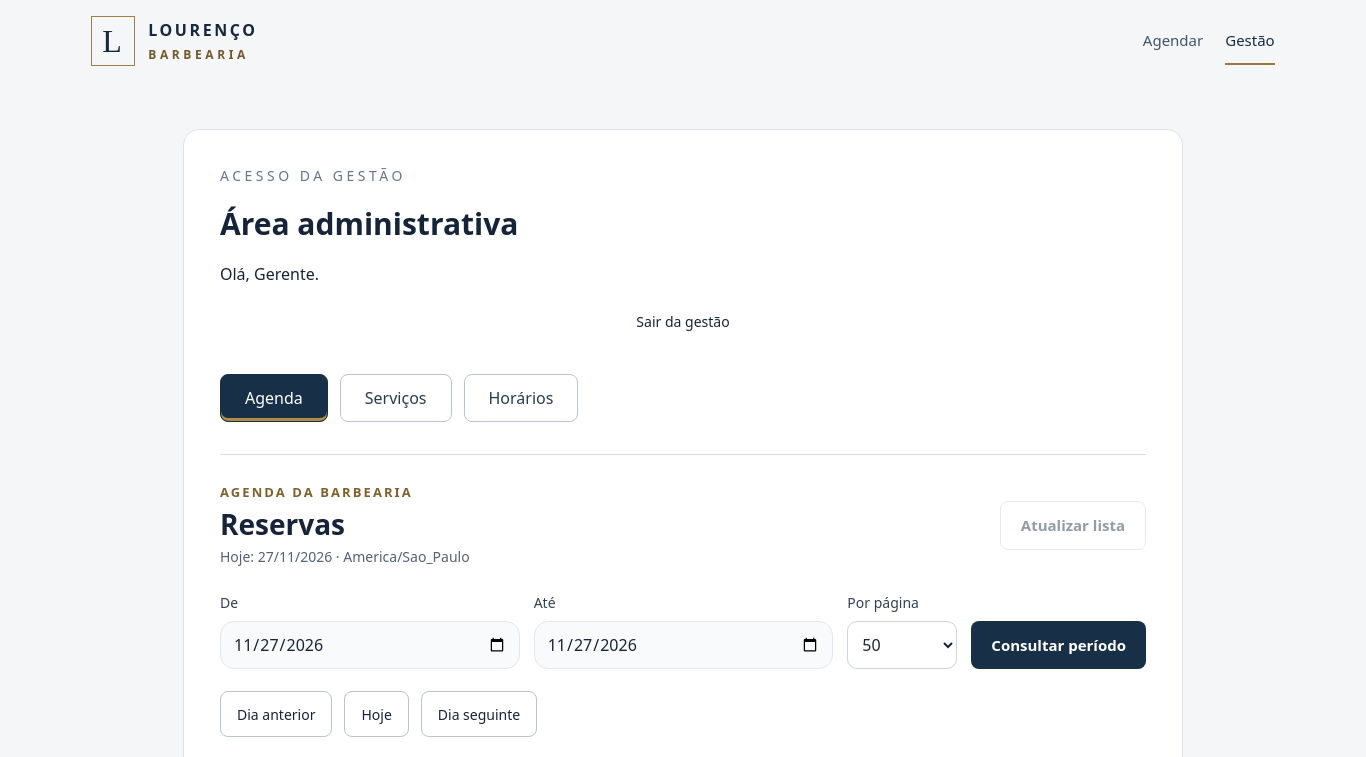
Test case: ignores stale filter responses even when transport ignores AbortSignal
The image size is (1366, 757).
Expected: the heading "Reservas" is shown, [220,504,345,542]
Click the button "Dia seguinte" at [479, 714], box [421,691,537,737]
(page scrolled)
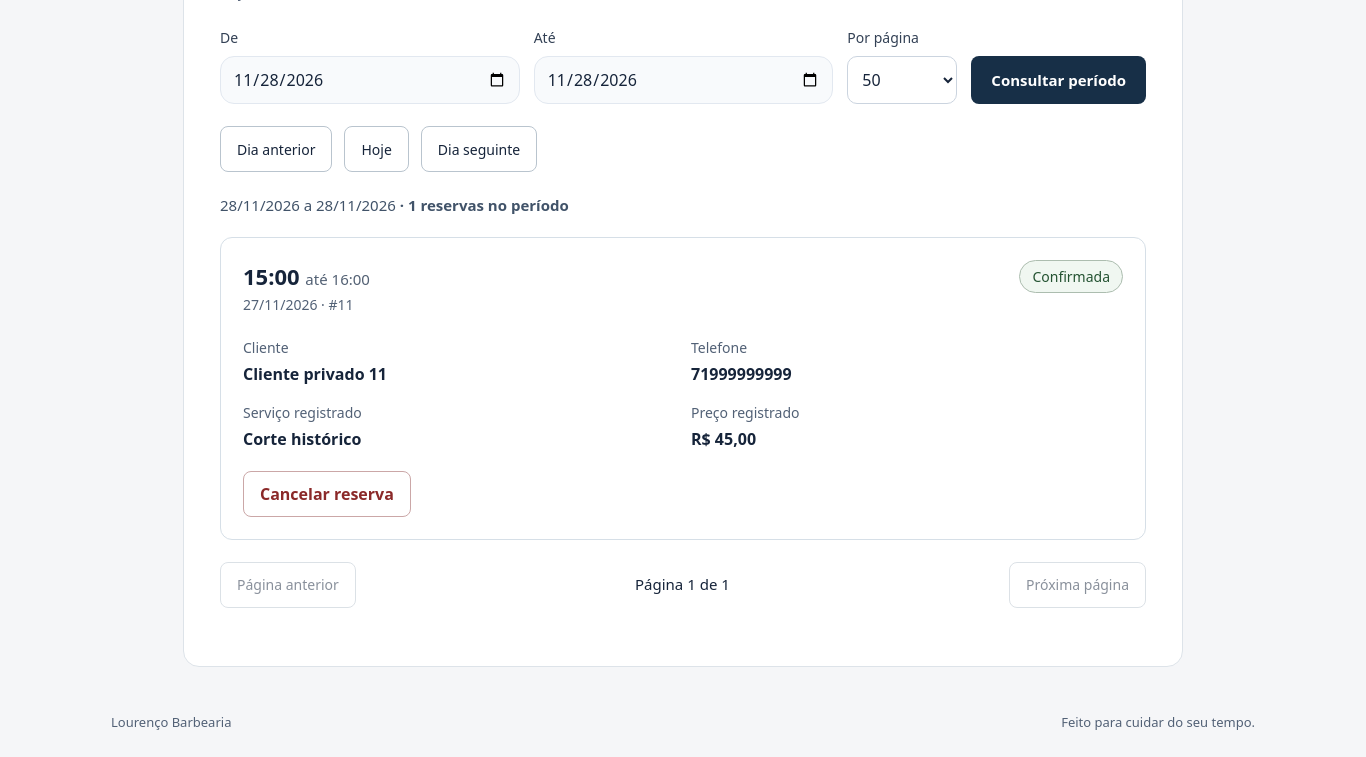
Now the text "Cliente privado 11" is shown, box [243,363,387,385]
